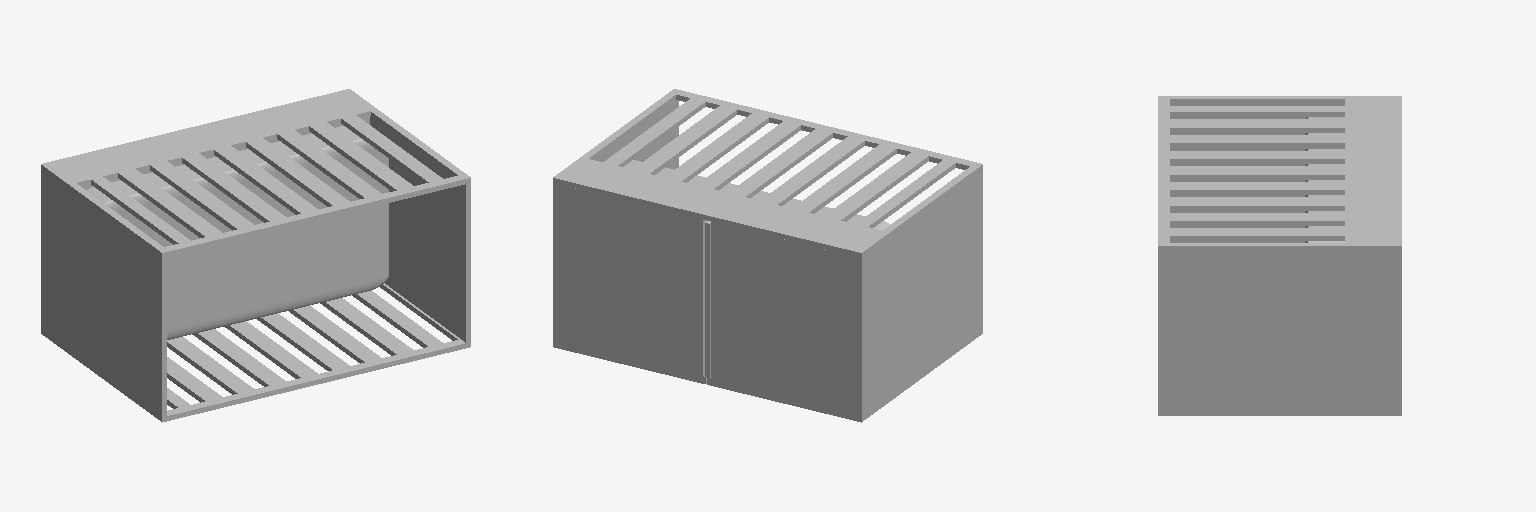
File: FritidsBlue.obj
3 renders of one model, left to right at view 1: azimuth 30°, elevation 25°; view 2: azimuth 150°, elevation 25°; view 3: azimuth 270°, elevation 25°, orthographic.
Parts seen in each view (by area): view 1: obj_0; view 2: obj_0; view 3: obj_0.
Part boxes in pixels (x1,y1,x2,y2): obj_0: (41,89,470,422); obj_0: (553,89,982,422); obj_0: (1158,96,1401,415).
Size of the model in its own units: 126 by 66.3 by 86.